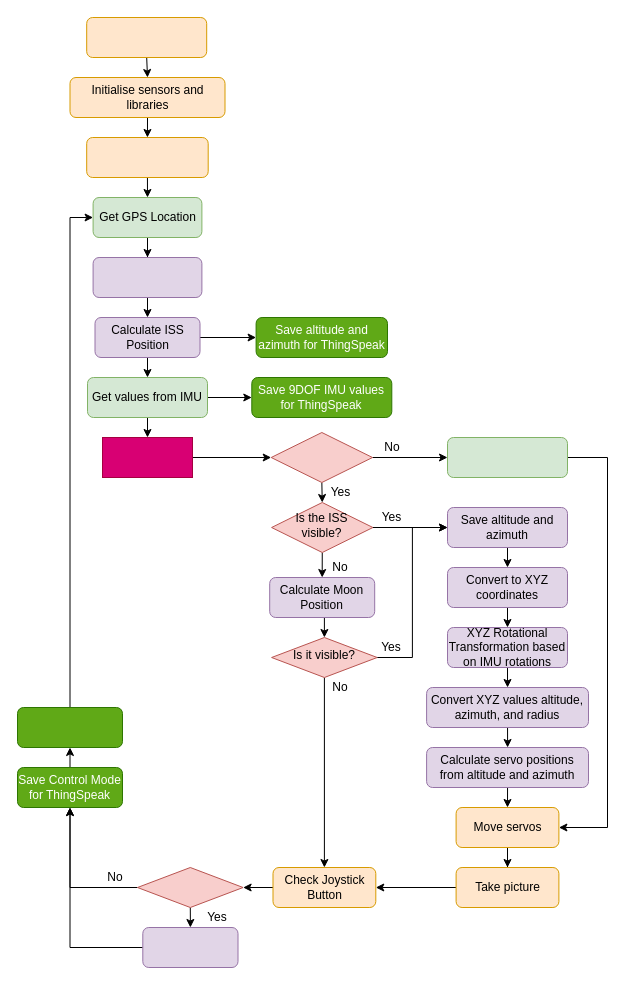
Image size: 633x985. Some labels were removed from this diagram. The centre of each missing label's shape, as x and y in pixels:
Check control mode: pixel 147 457
Connect to raspberry pi: pixel 146 37
Initialise control mode to "automated": pixel 147 157
Is it automated?: pixel 321 457
Is it on?: pixel 189 887
Read Joystick values from ADC Chip: pixel 507 457
Toggle Control Mode: pixel 190 947
Update location in Telemetry Library: pixel 147 277
Update Thingspeak: pixel 69 727
